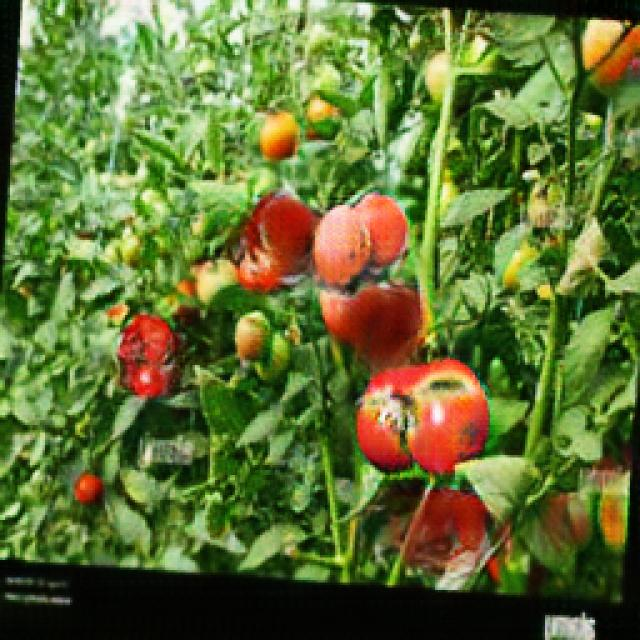overripe tomato: (404, 361, 493, 473), (356, 365, 417, 473), (117, 314, 177, 394)
